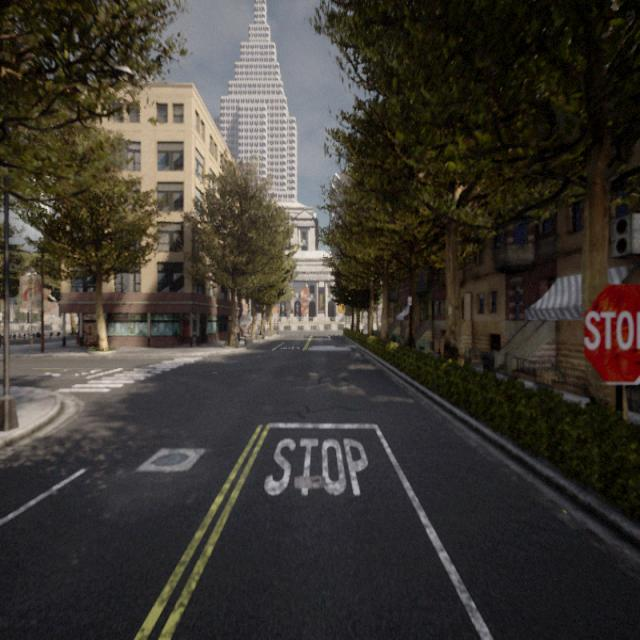stop sign: (580, 280, 638, 387), (582, 308, 638, 352)
